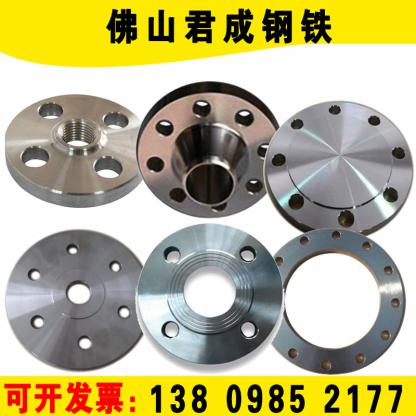FOD: (255, 226, 409, 375), (0, 228, 150, 374), (136, 222, 287, 366), (263, 96, 416, 237), (132, 75, 280, 218), (0, 90, 155, 210)
